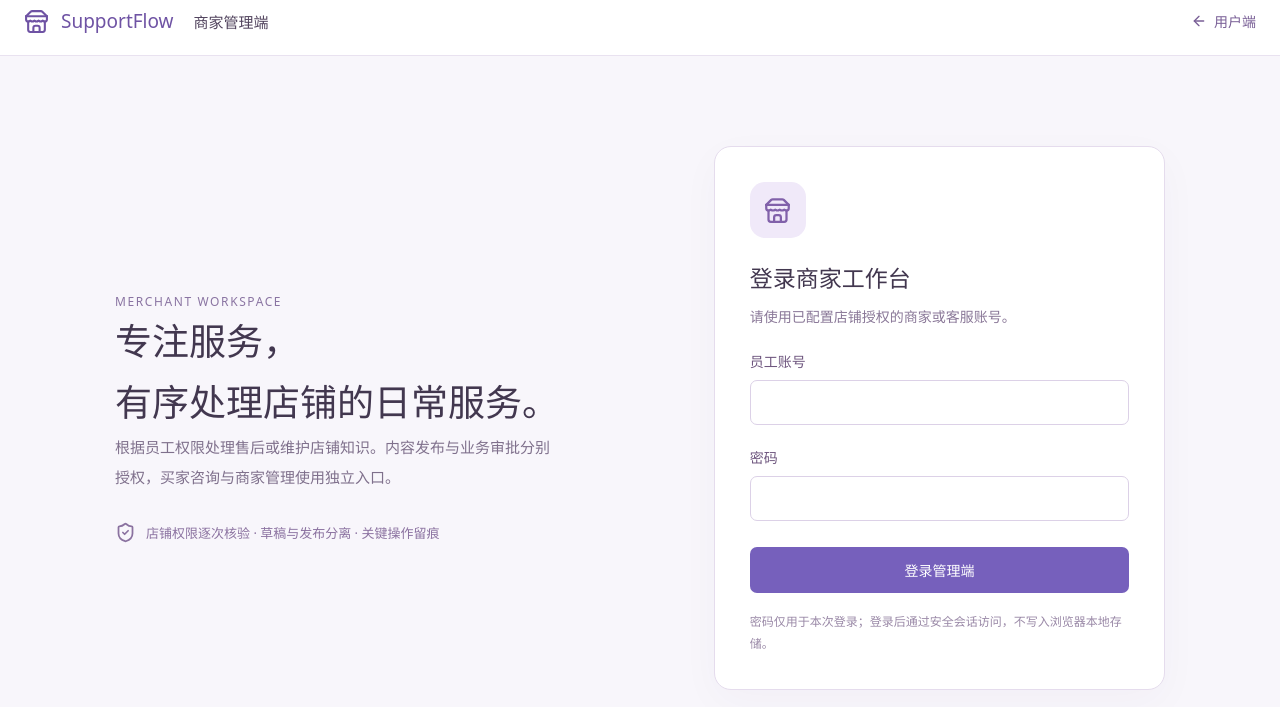
Test case: MerchantApp › shows only the knowledge partition for knowledge-only staff
Type "staff" into the field with test id "merchant-username".
click(939, 403); type("staff")  # box 750,380 -> 1129,425
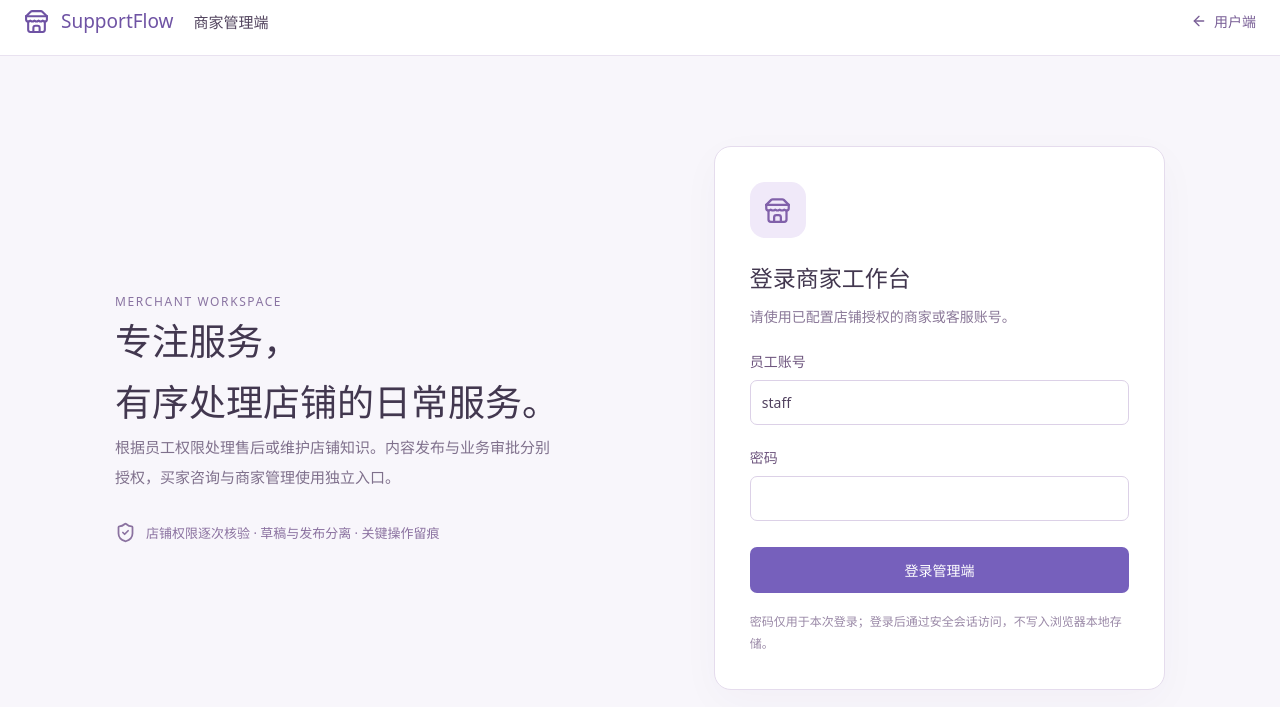
Type "test" into the password field with test id "merchant-password".
click(939, 499); type("test")  # box 750,476 -> 1129,521
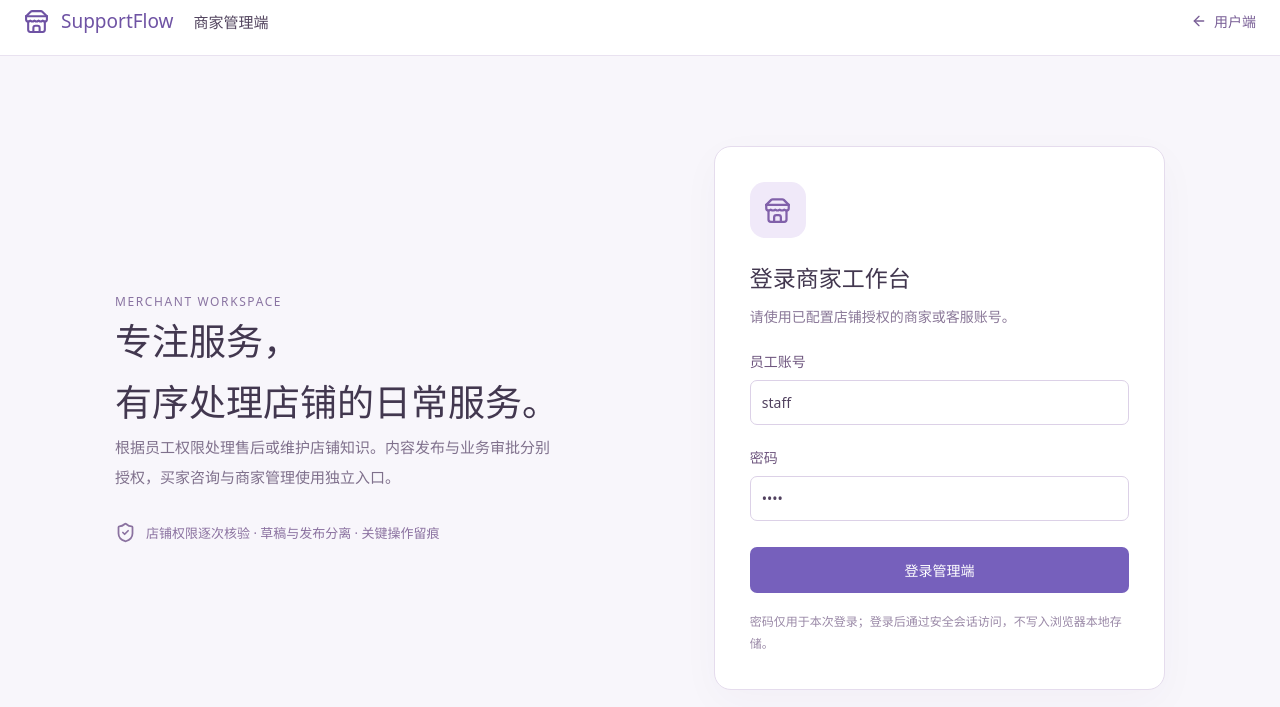
Submit the form with test id "merchant-login", box 714,146 -> 1165,690
(page scrolled)
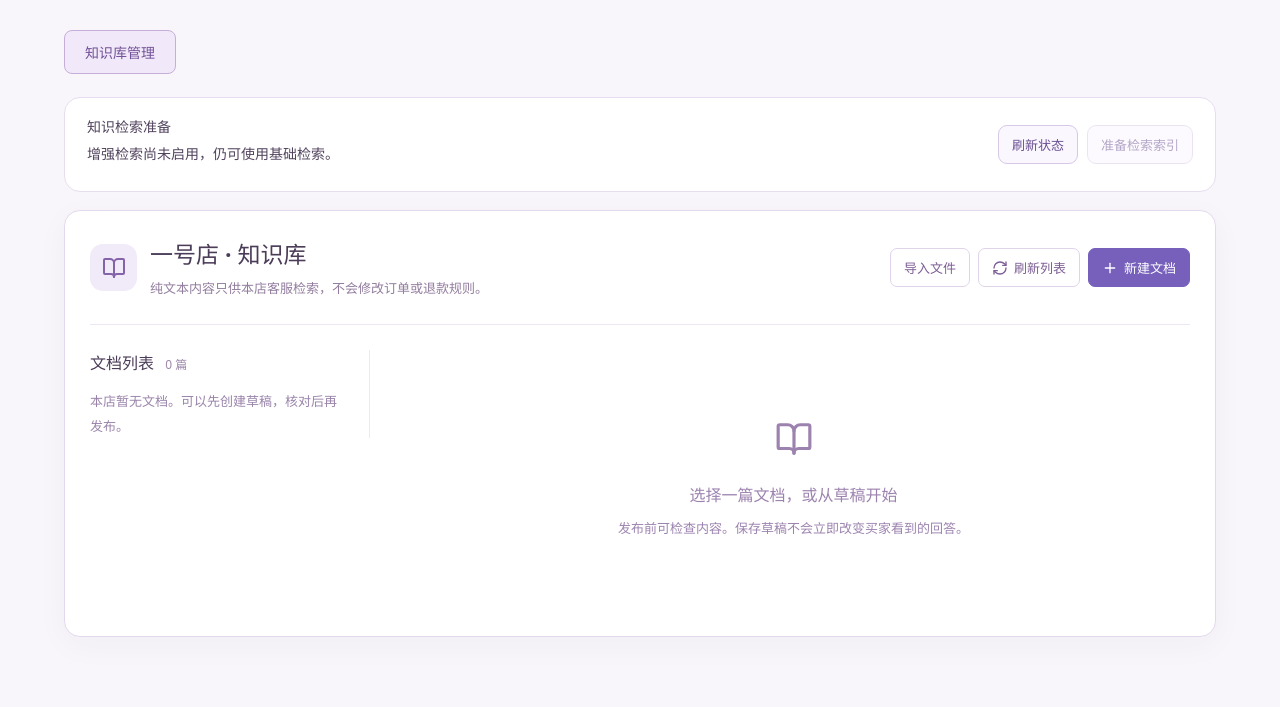
Now the button with test id "merchant-tab-knowledge" is shown, box 64,30 -> 176,74
Now the element with test id "knowledge-panel" is shown, box 64,210 -> 1216,637
